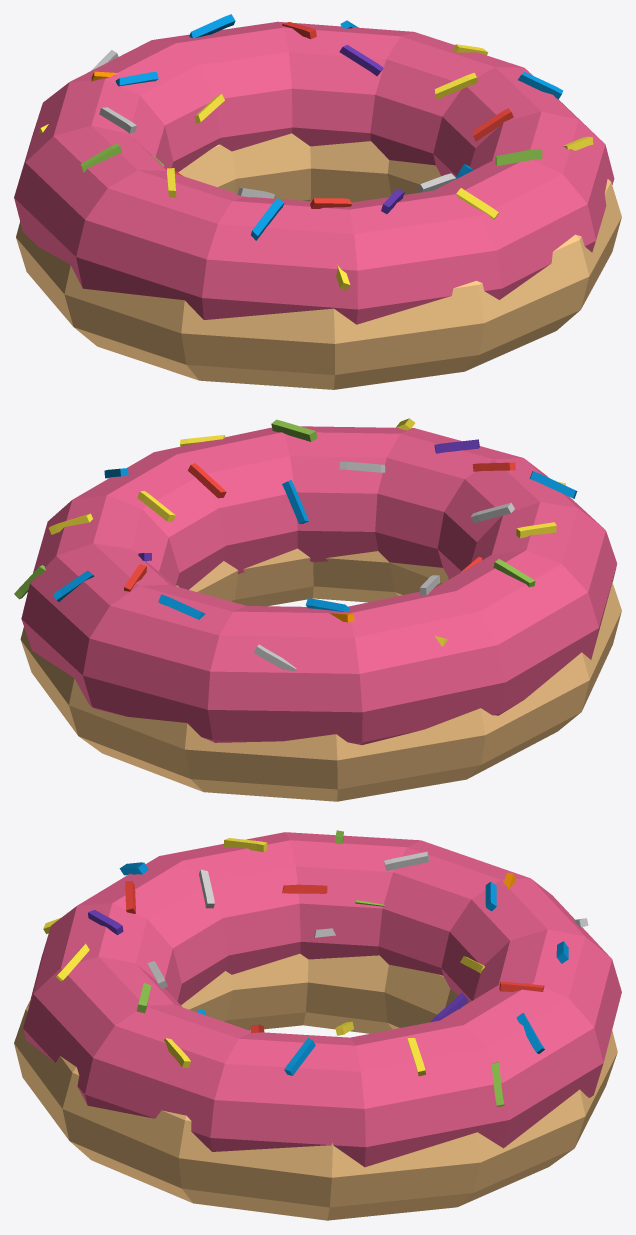
The model's file is DonutModel.fbx.
The picture shows the model from 3 angles, top to bottom: view 1: azimuth 30°, elevation 25°; view 2: azimuth 150°, elevation 25°; view 3: azimuth 270°, elevation 25°; orthographic projection.
Parts seen in each view (by area): view 1: mesh_1362374430, mesh_2098678608, mesh_1032171036, mesh_1138604164, mesh_356462606; view 2: mesh_1362374430, mesh_2098678608, mesh_1032171036; view 3: mesh_1362374430, mesh_2098678608.
Part boxes in pixels (x1,y1,x2,y2): mesh_1362374430: [14, 21, 614, 324]; mesh_2098678608: [16, 133, 621, 389]; mesh_1032171036: [495, 148, 542, 166]; mesh_1138604164: [435, 72, 477, 99]; mesh_356462606: [339, 44, 383, 76]; mesh_1362374430: [21, 426, 617, 745]; mesh_2098678608: [20, 548, 621, 801]; mesh_1032171036: [271, 419, 317, 441]; mesh_1362374430: [23, 832, 621, 1167]; mesh_2098678608: [14, 953, 617, 1220].
Bounding box in the file's own units: 42.94 × 15.66 × 43.2.
